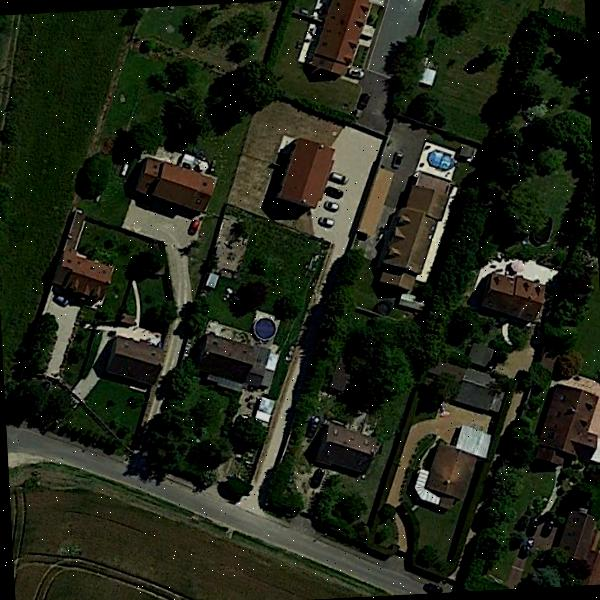Buildings: (384, 174, 445, 284), (538, 381, 600, 467), (305, 0, 371, 70), (268, 132, 327, 208), (420, 433, 483, 504), (136, 160, 208, 214), (479, 268, 546, 323), (204, 338, 271, 392), (102, 337, 168, 389), (59, 236, 107, 302), (312, 428, 384, 472), (560, 508, 594, 560), (459, 378, 490, 406)
